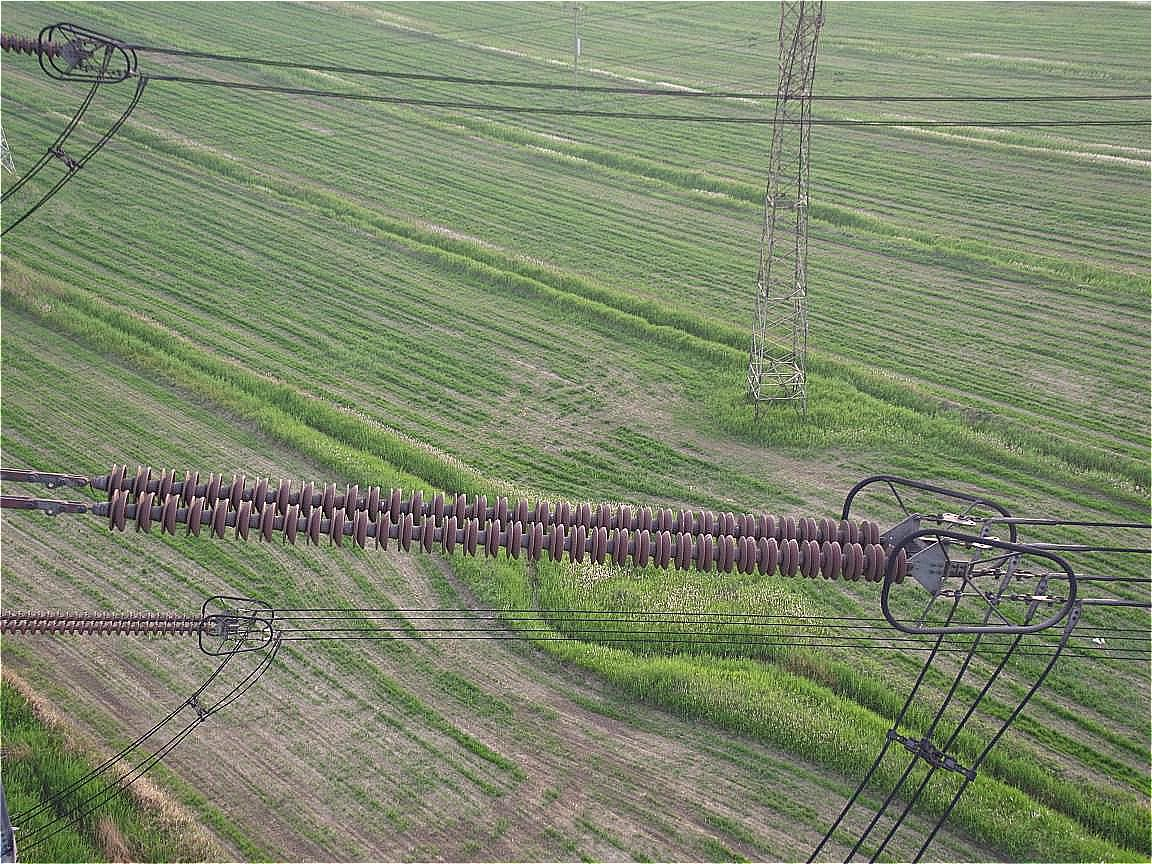insultor1: (88, 448, 911, 594), (1, 599, 216, 647)
